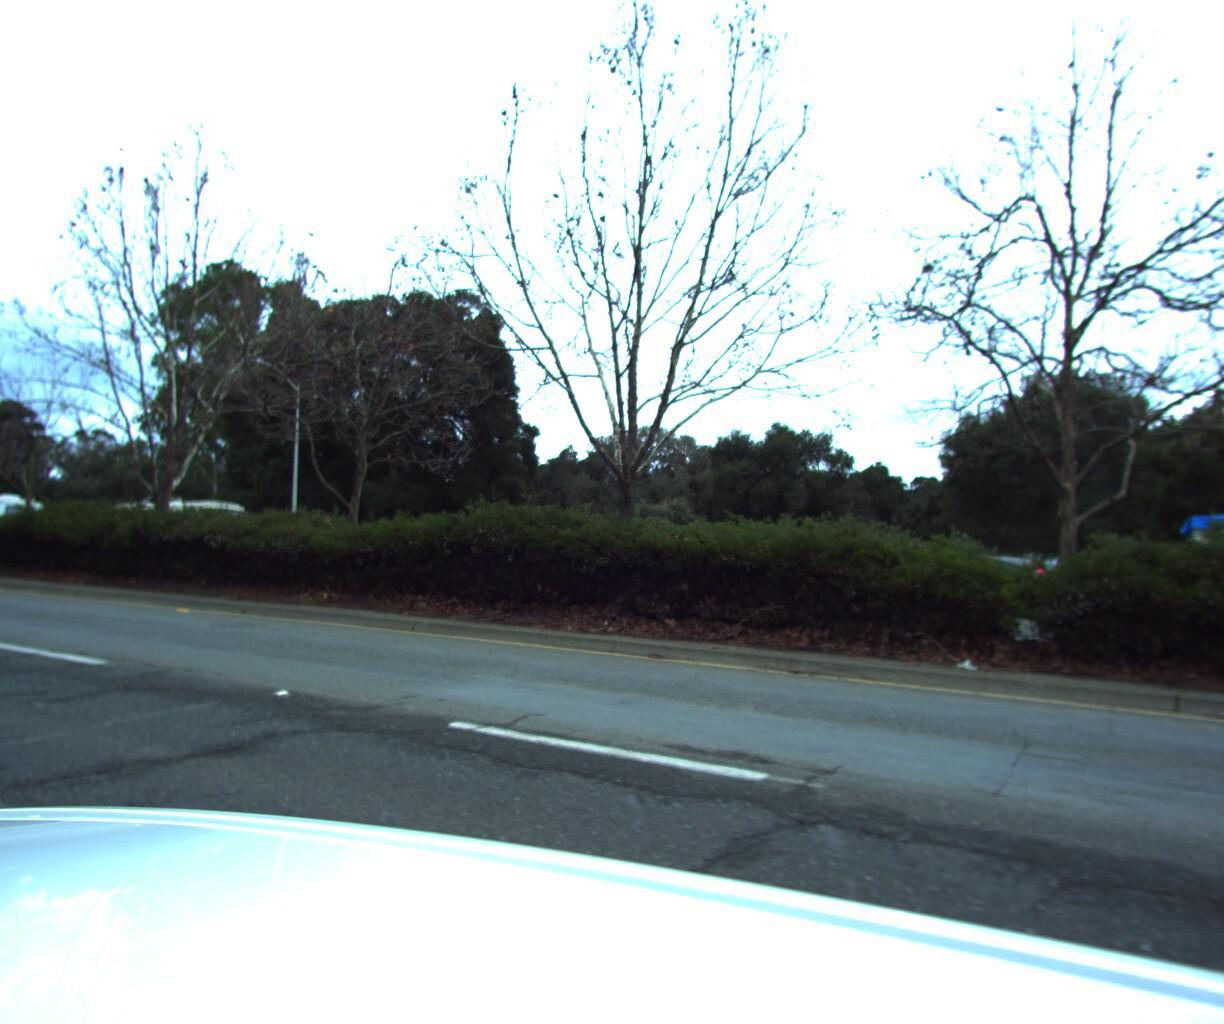car: (862, 544, 1042, 601)
other_vehicle: (88, 489, 251, 559), (1172, 507, 1224, 604), (0, 487, 50, 553)
